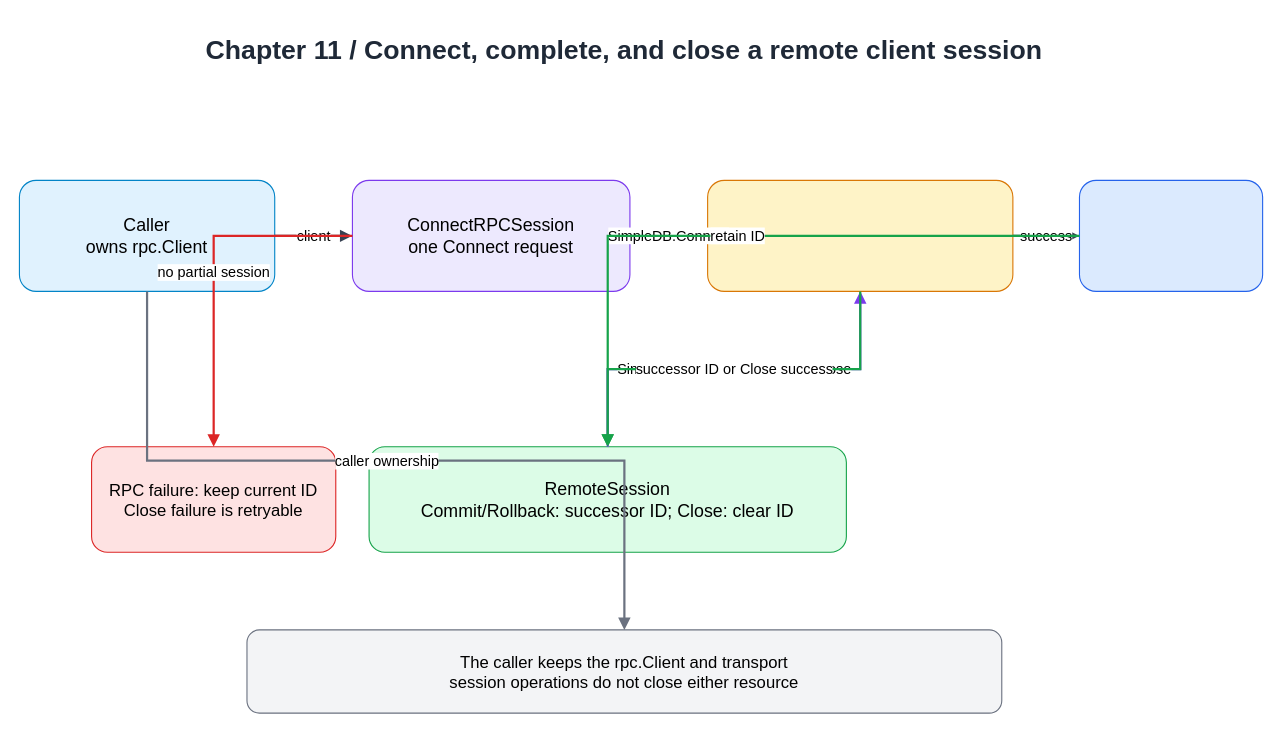
This 1282x733 diagram has some shape labels left out. Here are the shapes that lost their labels. From the top down, the centre of each, then its label:
At [860,235]: "DriverService Connect, Commit, Rollback, Close".
At [1170,235]: "START record initial / successor ID".
